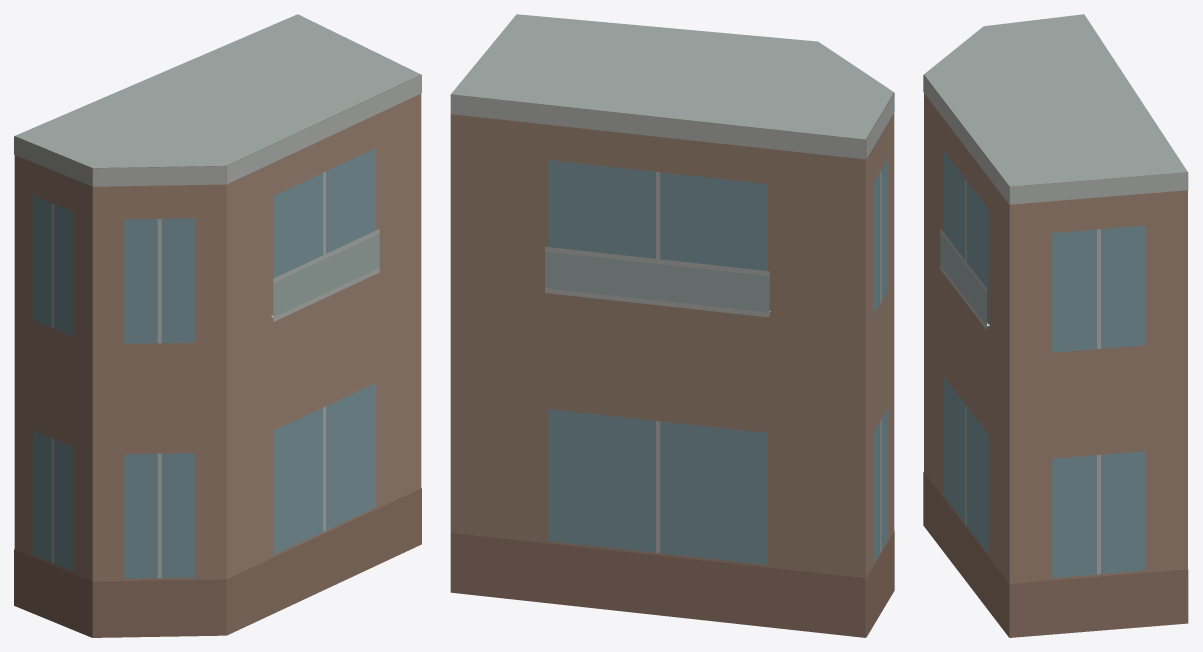
The model's file is survey-upis-32616231.glb.
3 renders of one model, left to right at view 1: azimuth 30°, elevation 25°; view 2: azimuth 150°, elevation 25°; view 3: azimuth 270°, elevation 25°, orthographic. The views are drawn at different scales.
Parts seen in each view (by area): view 1: survey-upis-32616231.tmp; view 2: survey-upis-32616231.tmp; view 3: survey-upis-32616231.tmp.
Boxes of the visible parts, x1,y1,x2,y2 form: survey-upis-32616231.tmp: (14, 14, 421, 637); survey-upis-32616231.tmp: (450, 14, 894, 637); survey-upis-32616231.tmp: (923, 14, 1188, 637).
Bounding box in the file's own units: 5.02 × 6.1 × 3.25.
